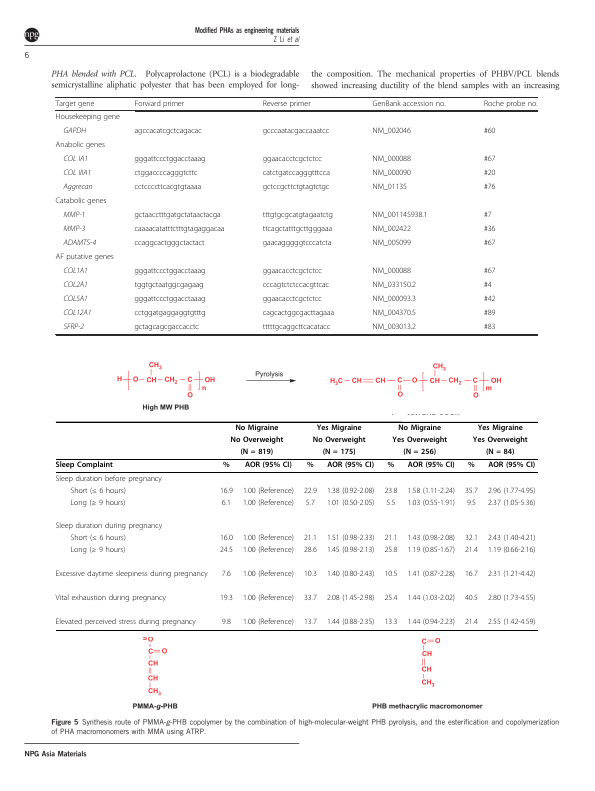borderless: (54, 95, 537, 334), (55, 420, 538, 630)
cell: (55, 570, 209, 579), (55, 618, 197, 627), (55, 474, 163, 484), (55, 522, 163, 532), (55, 594, 167, 603), (133, 224, 225, 234), (133, 210, 222, 220), (133, 154, 206, 164), (133, 266, 206, 276), (133, 294, 206, 304), (133, 308, 206, 318), (262, 308, 335, 318), (262, 210, 334, 220), (133, 238, 205, 248), (133, 280, 205, 290), (262, 224, 333, 234), (133, 126, 203, 136), (262, 238, 332, 248), (262, 168, 331, 178), (133, 182, 202, 192), (262, 322, 331, 332), (262, 126, 330, 136), (262, 182, 330, 192), (262, 280, 330, 290), (372, 99, 447, 108), (133, 322, 200, 332), (55, 112, 121, 122), (133, 168, 198, 178), (262, 154, 323, 164), (54, 252, 115, 262), (262, 266, 323, 276), (262, 294, 323, 304), (69, 486, 127, 496), (69, 534, 127, 544), (69, 498, 126, 508), (69, 546, 126, 556), (372, 210, 428, 220), (55, 461, 114, 470), (242, 486, 295, 496), (242, 498, 295, 508), (242, 534, 295, 544), (242, 546, 295, 556), (55, 196, 107, 206), (391, 436, 448, 445), (55, 140, 106, 150), (472, 436, 528, 445), (406, 486, 456, 496), (406, 498, 456, 508), (406, 534, 456, 544), (406, 546, 456, 556), (483, 99, 538, 108), (326, 486, 375, 496), (487, 486, 536, 496), (326, 498, 375, 508), (487, 498, 536, 508), (326, 534, 375, 544), (487, 534, 536, 544), (326, 546, 375, 556), (487, 546, 536, 556), (230, 436, 284, 445), (312, 436, 366, 445), (242, 570, 295, 579), (242, 594, 295, 603), (242, 618, 295, 627), (133, 99, 185, 108), (372, 280, 417, 290), (372, 294, 417, 304), (372, 308, 417, 318), (372, 322, 417, 332), (406, 570, 456, 579), (406, 594, 456, 603), (406, 618, 456, 627), (262, 99, 311, 108), (244, 461, 293, 470), (326, 461, 375, 470), (487, 461, 536, 470), (326, 570, 375, 579), (487, 570, 536, 579), (326, 594, 375, 603), (487, 594, 536, 603), (326, 618, 375, 627), (487, 618, 536, 627), (407, 461, 455, 470), (316, 424, 363, 433), (477, 424, 524, 433), (234, 424, 279, 433), (397, 424, 442, 433), (372, 126, 412, 136), (372, 154, 412, 164), (372, 168, 412, 178), (372, 224, 412, 234), (372, 238, 412, 248), (372, 266, 412, 276), (55, 99, 95, 108), (372, 182, 408, 192), (62, 238, 97, 247), (239, 448, 274, 457), (402, 448, 437, 457), (62, 182, 93, 192), (322, 448, 356, 457), (62, 168, 92, 178), (62, 154, 89, 164), (62, 308, 92, 317), (485, 448, 515, 457), (62, 126, 87, 136), (62, 266, 89, 275), (62, 280, 89, 289), (62, 294, 89, 303), (62, 210, 86, 219), (62, 224, 86, 233), (62, 322, 85, 331), (219, 486, 234, 496), (303, 486, 318, 496), (383, 486, 398, 496), (464, 486, 479, 496), (219, 534, 234, 544), (303, 534, 318, 544), (383, 534, 398, 544), (464, 534, 479, 544), (219, 546, 234, 556), (303, 546, 318, 556), (383, 546, 398, 556), (464, 546, 479, 556), (303, 570, 318, 579), (383, 570, 398, 579), (464, 570, 479, 579), (219, 594, 234, 603), (303, 594, 318, 603), (383, 594, 398, 603), (464, 594, 479, 603), (303, 618, 318, 627), (383, 618, 398, 627), (464, 618, 479, 627), (483, 126, 496, 136), (483, 154, 496, 164), (483, 168, 496, 178), (483, 182, 496, 192), (483, 224, 496, 234), (483, 238, 496, 248), (483, 266, 496, 276), (483, 294, 496, 304), (483, 308, 496, 318), (483, 322, 496, 332), (221, 498, 232, 508), (305, 498, 316, 508), (385, 498, 396, 508), (466, 498, 477, 508), (221, 570, 232, 579), (221, 618, 232, 627), (483, 210, 492, 220), (483, 280, 492, 290), (222, 461, 231, 470), (306, 461, 315, 470), (386, 461, 395, 470), (467, 461, 476, 470)
